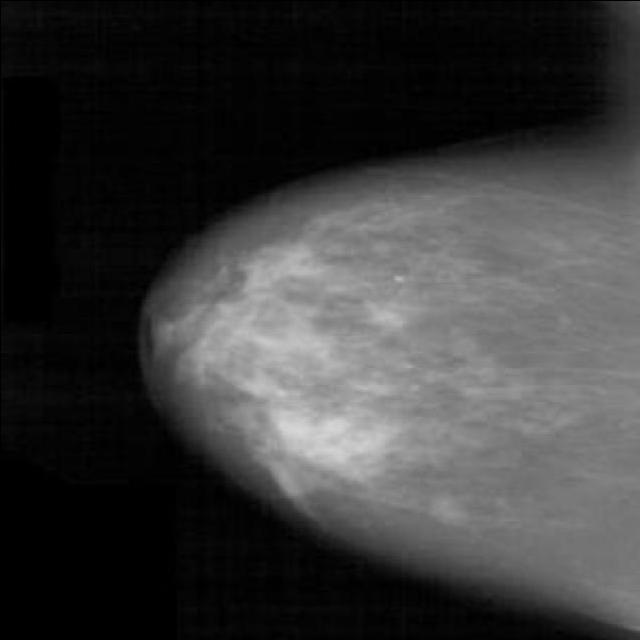tumor: (237, 383, 412, 522), (191, 235, 353, 358)
